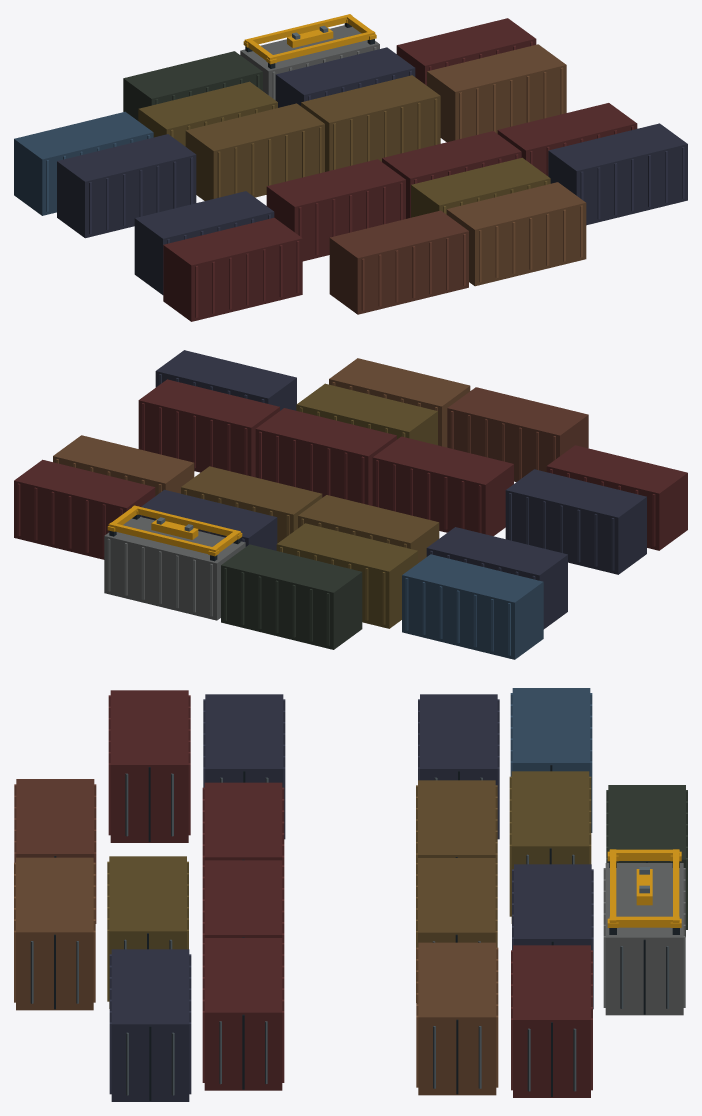
File: SeaportSystem-01-Container-01-20Footer-4-02.glb
3 views of the same model, one above another, from view 1: azimuth 30°, elevation 25°; view 2: azimuth 150°, elevation 25°; view 3: azimuth 270°, elevation 25° (orthographic). The views are drawn at different scales.
Parts seen in each view (by area): view 1: SeaportSystem-01-Container-01-20Footer-4-02; view 2: SeaportSystem-01-Container-01-20Footer-4-02; view 3: SeaportSystem-01-Container-01-20Footer-4-02.
Part boxes in pixels (box(x1,y1,x2,y2)): SeaportSystem-01-Container-01-20Footer-4-02: box(14, 14, 687, 321); SeaportSystem-01-Container-01-20Footer-4-02: box(14, 350, 687, 659); SeaportSystem-01-Container-01-20Footer-4-02: box(14, 688, 687, 1101).
Bounding box in the file's own units: 59.48 × 8.25 × 50.25.
